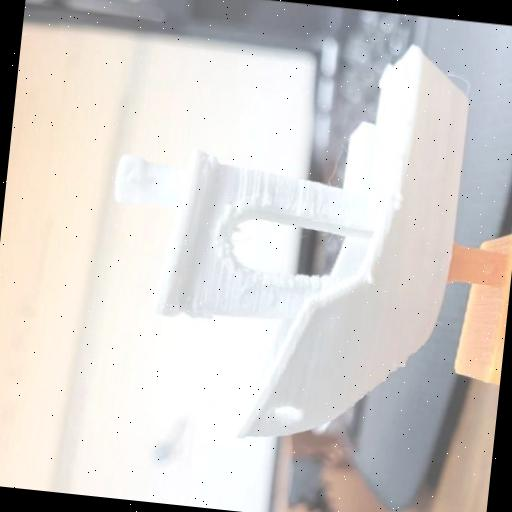blobs: (389, 186, 409, 213), (366, 268, 380, 287)
